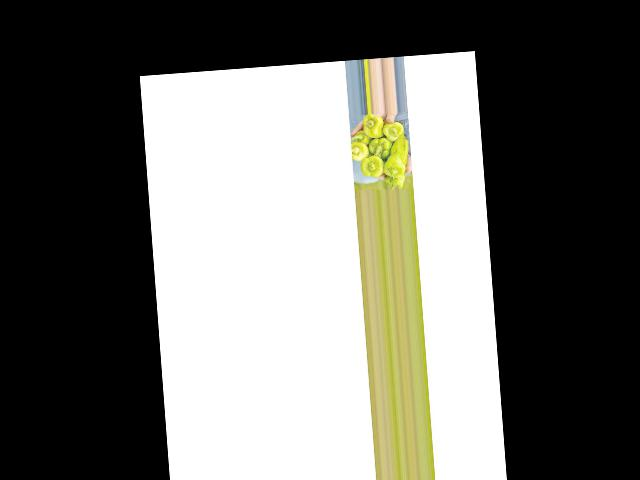bell_pepper: (359, 114, 383, 140)
